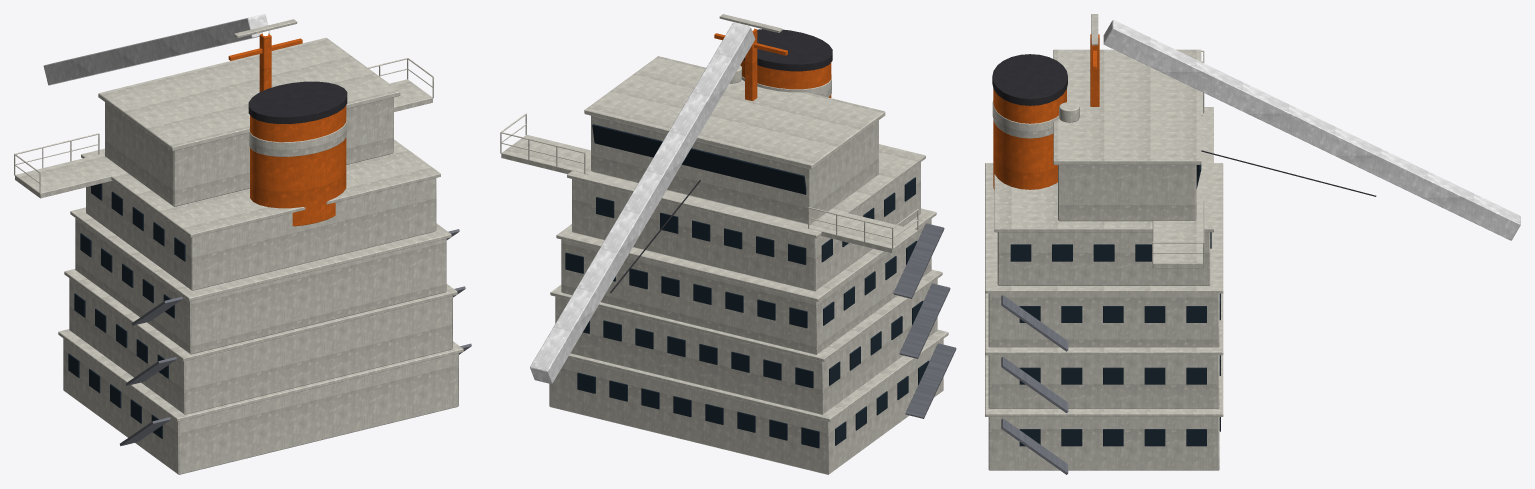
File: ship.glb
The picture shows the model from 3 angles, left to right: view 1: azimuth 30°, elevation 25°; view 2: azimuth 150°, elevation 25°; view 3: azimuth 270°, elevation 25°; orthographic projection.
Parts seen in each view (by area): view 1: ship_house__q, deck_crane__q; view 2: ship_house__q, deck_crane__q; view 3: ship_house__q, deck_crane__q.
Part boxes in pixels (x1=…): ship_house__q: x1=14, y1=19, x2=471, y2=474; deck_crane__q: x1=43, y1=14, x2=269, y2=85; ship_house__q: x1=500, y1=14, x2=956, y2=474; deck_crane__q: x1=530, y1=22, x2=755, y2=383; ship_house__q: x1=985, y1=14, x2=1223, y2=474; deck_crane__q: x1=1103, y1=20, x2=1520, y2=240.
Bounding box in the file's own units: 19.66 × 18.28 × 23.18.
9 materials, 9 textured.
